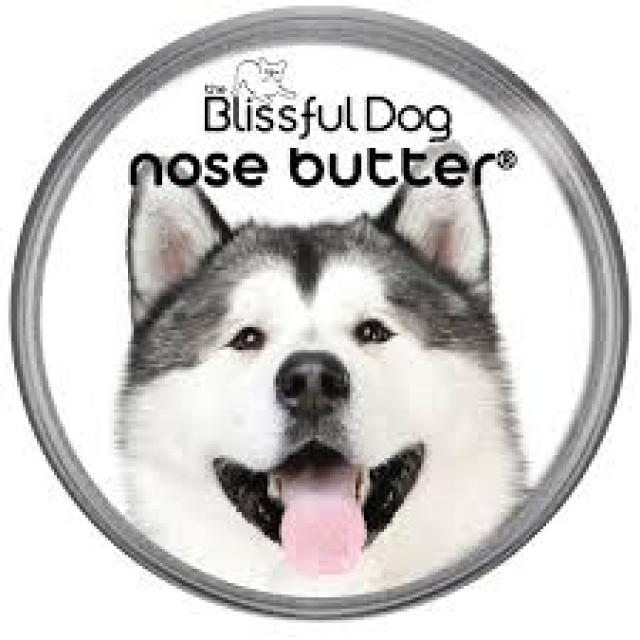ALASKAN_MALAMUTE: (101, 139, 566, 608)
